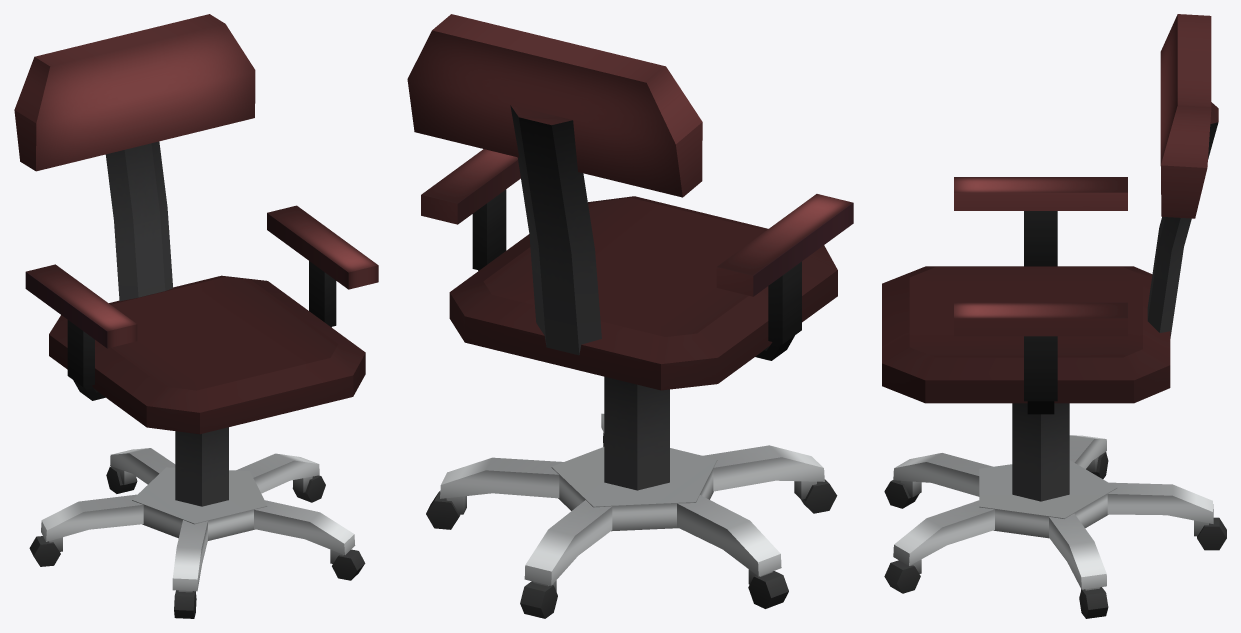
The model's file is Chair_DeskChair_Red.fbx.
3 views of the same model, side by side, from view 1: azimuth 30°, elevation 25°; view 2: azimuth 150°, elevation 25°; view 3: azimuth 270°, elevation 25° (orthographic). The views are drawn at different scales.
Parts seen in each view (by area): view 1: Chair_DeskChair_Red; view 2: Chair_DeskChair_Red; view 3: Chair_DeskChair_Red.
Boxes of the visible parts, left/top/right/bottom form: Chair_DeskChair_Red: left=14, top=14, right=378, bottom=618; Chair_DeskChair_Red: left=407, top=14, right=853, bottom=618; Chair_DeskChair_Red: left=882, top=14, right=1226, bottom=618.
Bounding box in the file's own units: 69.71 × 104 × 66.73.
